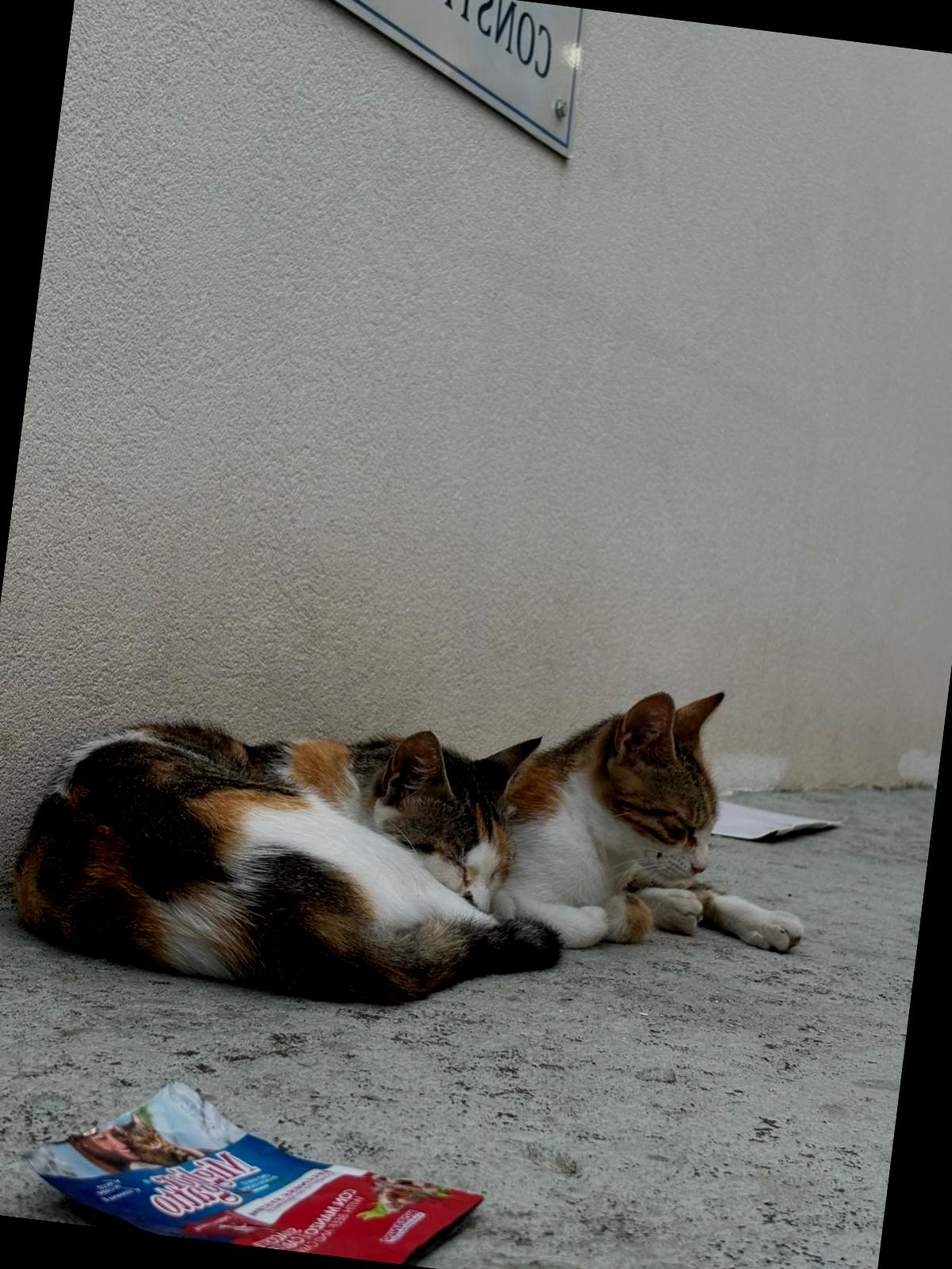macka: (0, 674, 582, 1025), (487, 665, 833, 975)
